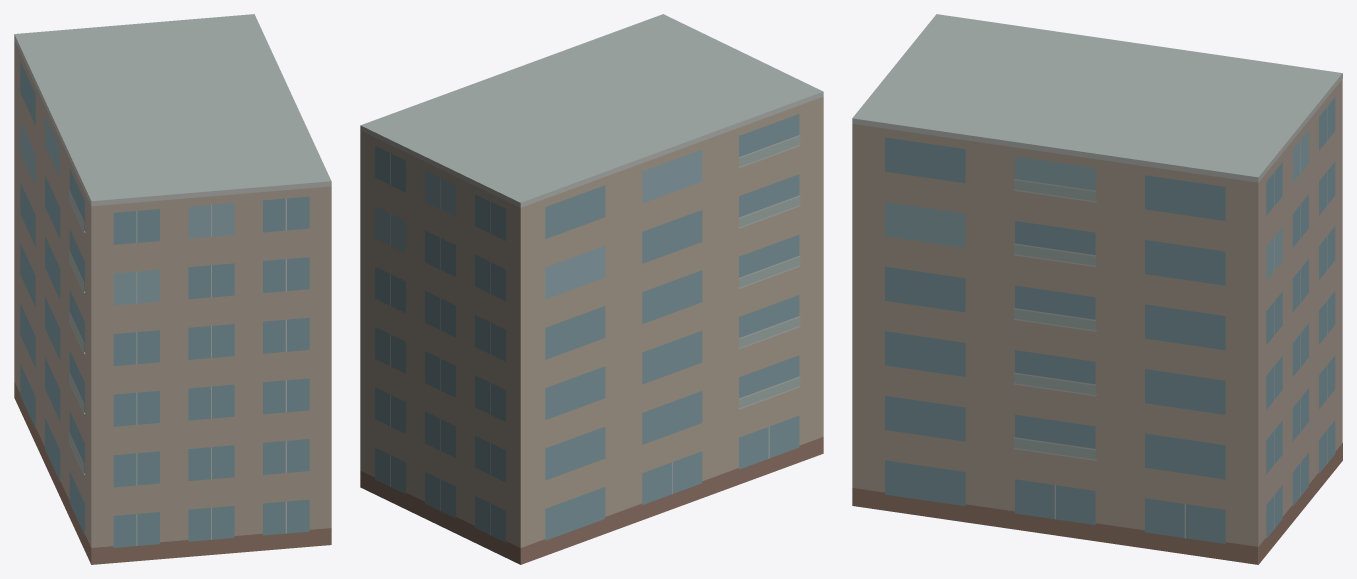
File: survey-upis-32856958.glb
3 views of the same model, side by side, from view 1: azimuth 30°, elevation 25°; view 2: azimuth 150°, elevation 25°; view 3: azimuth 270°, elevation 25° (orthographic). The views are drawn at different scales.
Parts seen in each view (by area): view 1: survey-upis-32856958.tmp; view 2: survey-upis-32856958.tmp; view 3: survey-upis-32856958.tmp.
Boxes of the visible parts, bbox=[...] form: survey-upis-32856958.tmp: bbox=[14, 14, 331, 564]; survey-upis-32856958.tmp: bbox=[360, 14, 823, 564]; survey-upis-32856958.tmp: bbox=[852, 14, 1342, 564].
Size of the model in its own units: 15.83 by 17.5 by 20.09.
